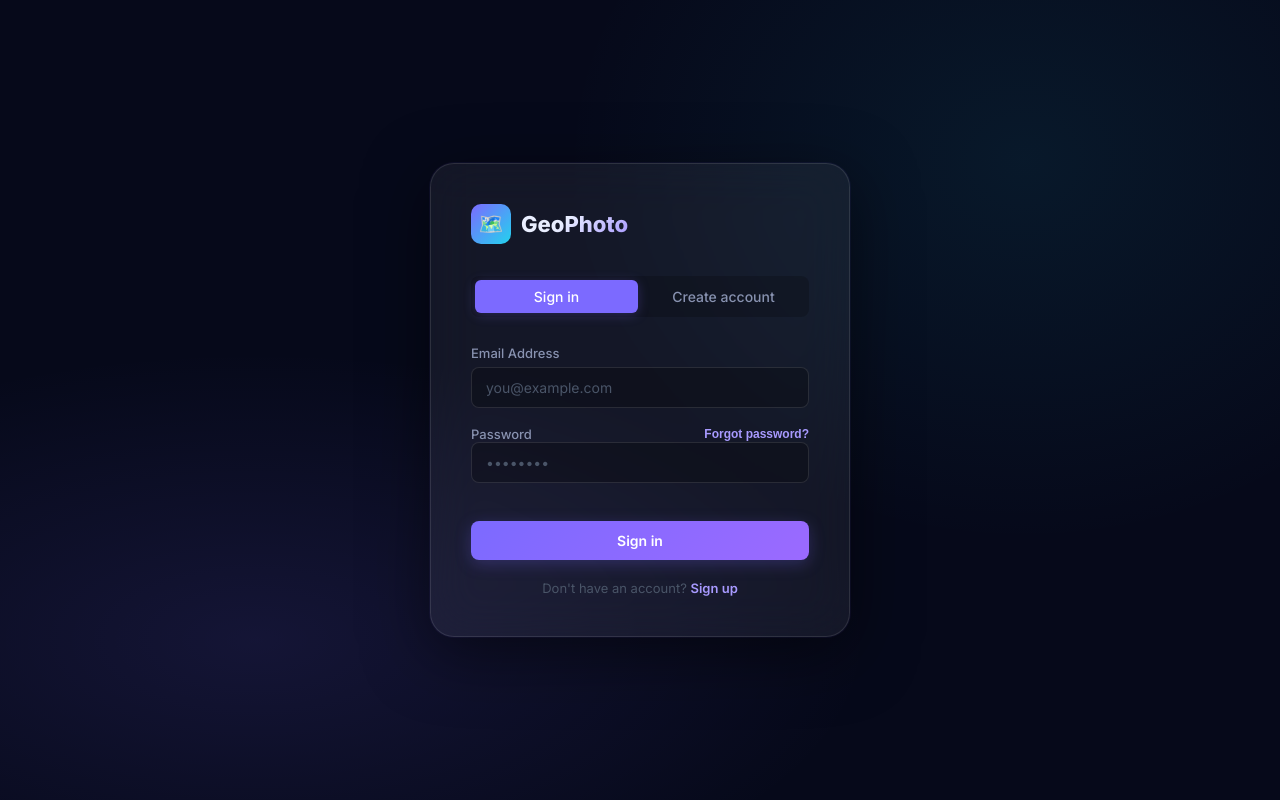
it: AuthPage › validates password strength rules on signup
Click the button with id "tab-signup": (724, 296) 642,280 -> 805,313
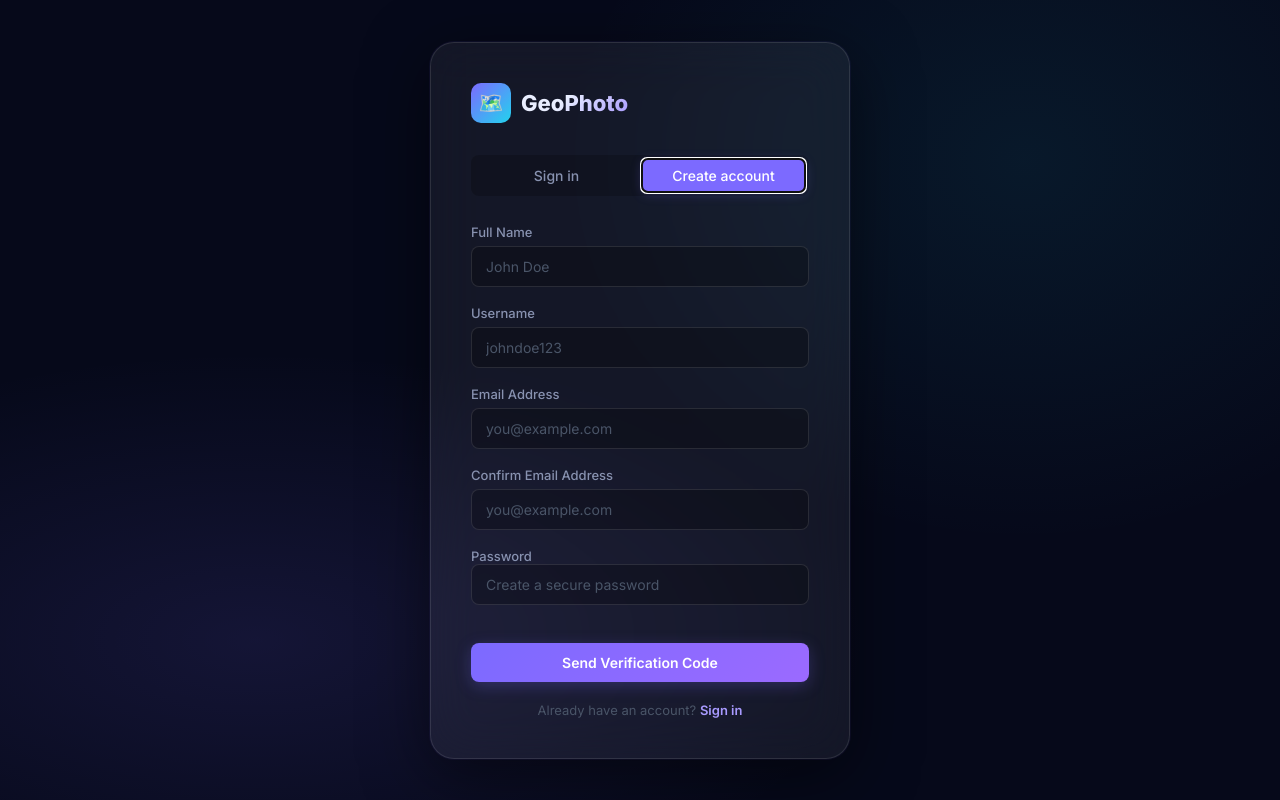
In the password field with id "auth-password": (640, 584) 471,564 -> 809,604, type "abc"
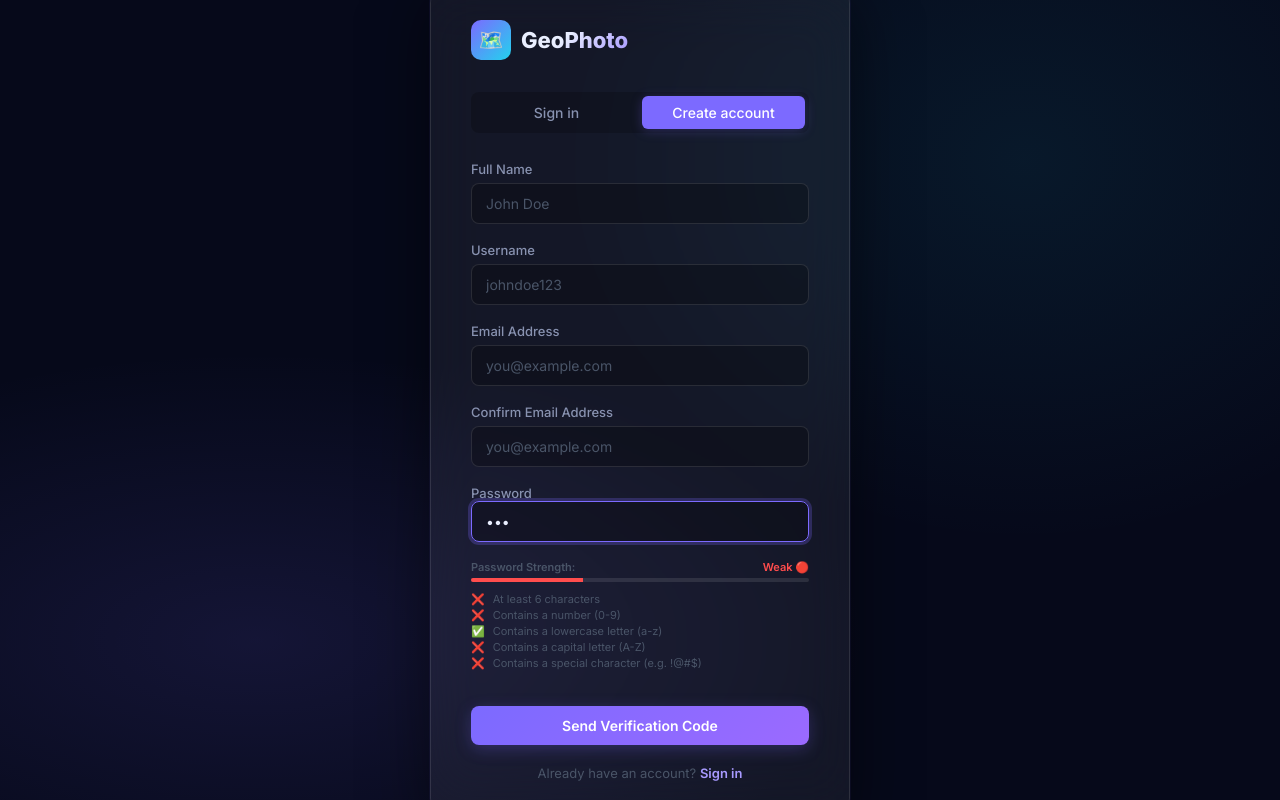
Check: the text "Password Strength:" is shown, box 471,560 -> 575,574
Check: the text "Weak 🔴" is shown, box 763,560 -> 809,574
